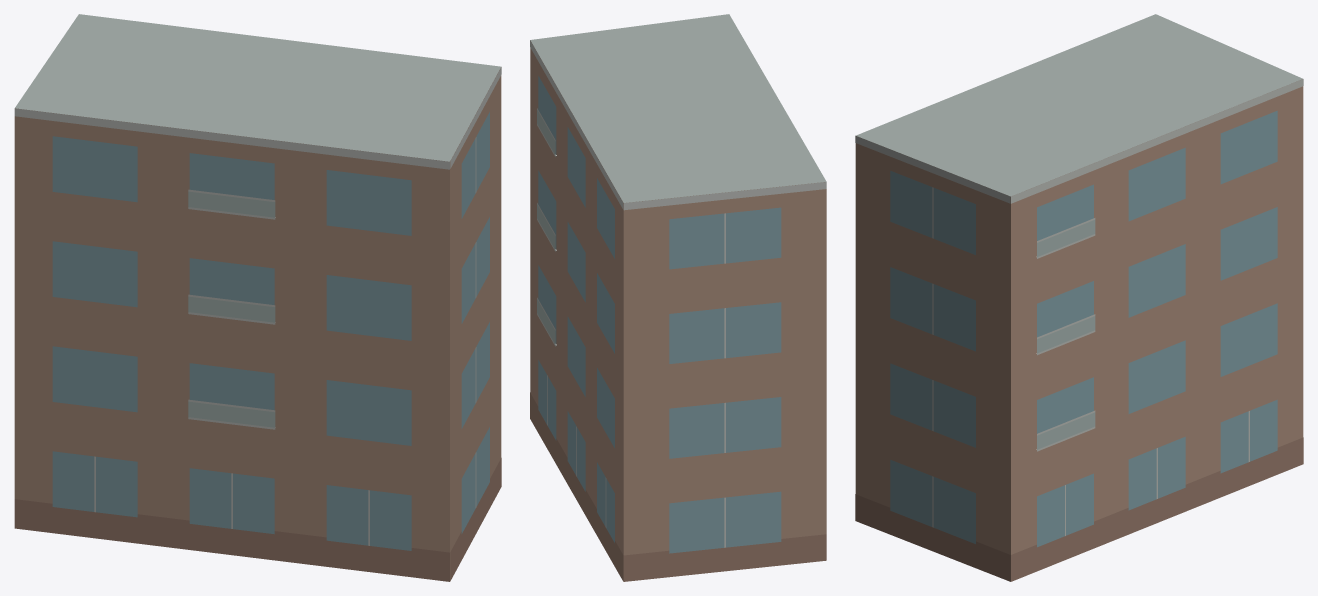
File: survey-upis-32640073.glb
3 renders of one model, left to right at view 1: azimuth 30°, elevation 25°; view 2: azimuth 150°, elevation 25°; view 3: azimuth 270°, elevation 25°, orthographic. The views are drawn at different scales.
Visible parts, largest first — view 1: survey-upis-32640073.tmp; view 2: survey-upis-32640073.tmp; view 3: survey-upis-32640073.tmp.
Part boxes in pixels (box(x1,y1,x2,y2)): survey-upis-32640073.tmp: box(14, 14, 501, 581); survey-upis-32640073.tmp: box(530, 14, 826, 581); survey-upis-32640073.tmp: box(855, 14, 1303, 581).
Size of the model in its own units: 13.01 by 12.8 by 13.49.
